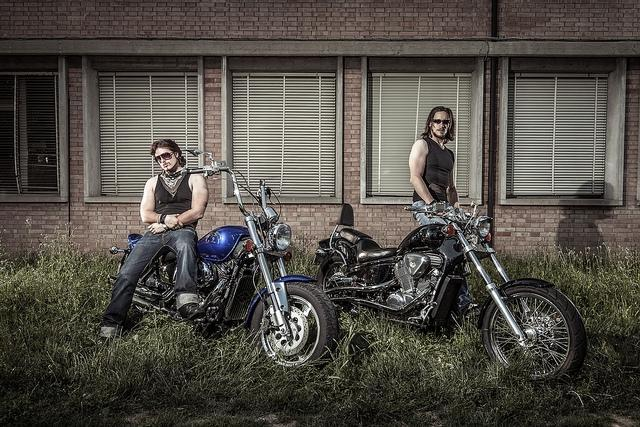motorcycle: (108, 152, 336, 372), (313, 204, 588, 382)
